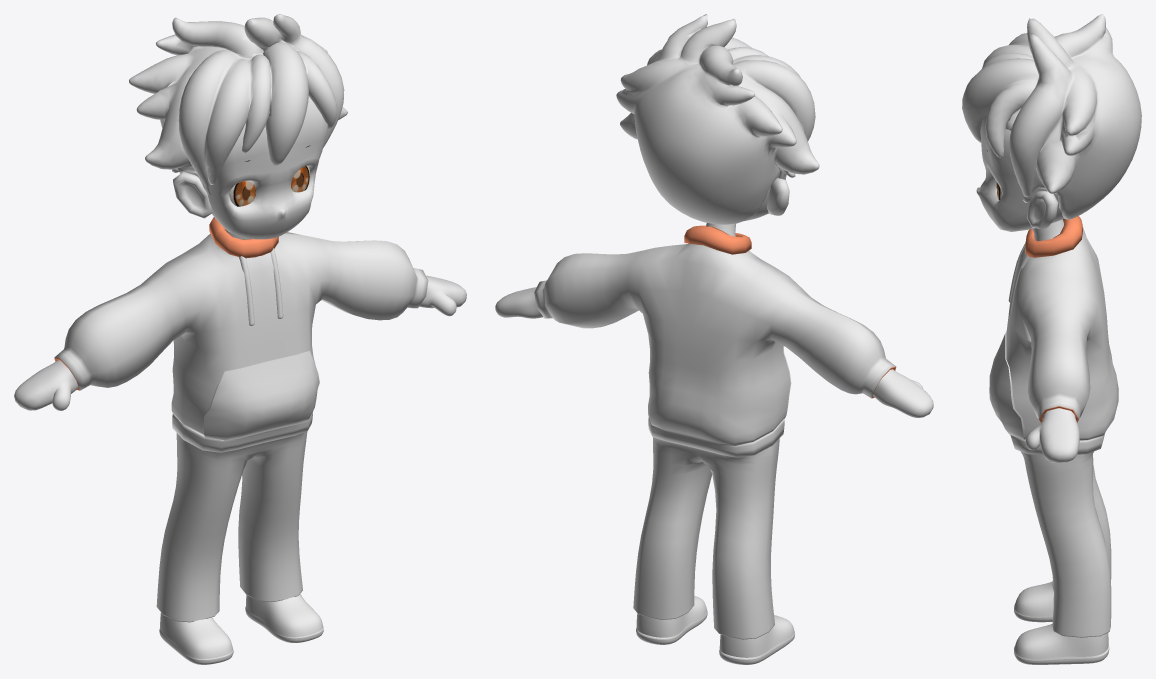
Rendered from Shooter.fbx.
3 views of the same model, side by side, from view 1: azimuth 30°, elevation 25°; view 2: azimuth 150°, elevation 25°; view 3: azimuth 270°, elevation 25° (orthographic). The views are drawn at different scales.
Visible parts, largest first — view 1: Cube.002, Retopo_dup head, Cube.003, Cube, Cube.004, Cube.005, Cube.001, Sphere, NurbsPath.001; view 2: Cube.002, Retopo_dup head, Cube.003, Cube.004, Cube.005, Cube.001; view 3: Retopo_dup head, Cube.002, Cube.003, Cube.004, Cube, Cube.005, Cube.001, Cylinder, NurbsPath.001.
Part boxes in pixels (x1,y1,x2,y2): Cube.002: (54,217,428,452); Retopo_dup head: (129,14,347,195); Cube.003: (156,432,307,622); Cube: (190,96,327,239); Cube.004: (159,593,323,664); Cube.005: (14,275,466,410); Cube.001: (173,171,212,218); Sphere: (229,166,310,206); NurbsPath.001: (239,248,283,325); Cube.002: (534,225,896,457); Retopo_dup head: (616,14,819,224); Cube.003: (633,437,779,639); Cube.004: (636,596,794,664); Cube.005: (495,287,933,417); Cube.001: (767,177,789,215); Retopo_dup head: (962,14,1141,219); Cube.002: (989,216,1118,454); Cube.003: (1020,451,1111,637); Cube.004: (1014,581,1109,664); Cube: (976,113,1064,231); Cube.005: (1025,408,1079,462); Cube.001: (1027,191,1058,228); Cylinder: (1032,219,1063,240); NurbsPath.001: (1008,243,1030,316).
Size of the model in its own units: 314 by 423 by 112.
